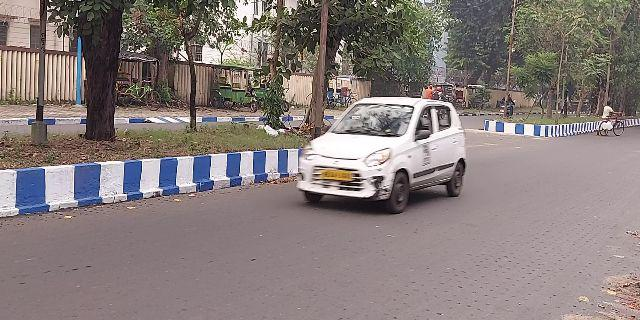Car: (294, 98, 470, 214)
Cycle: (600, 118, 630, 138)
